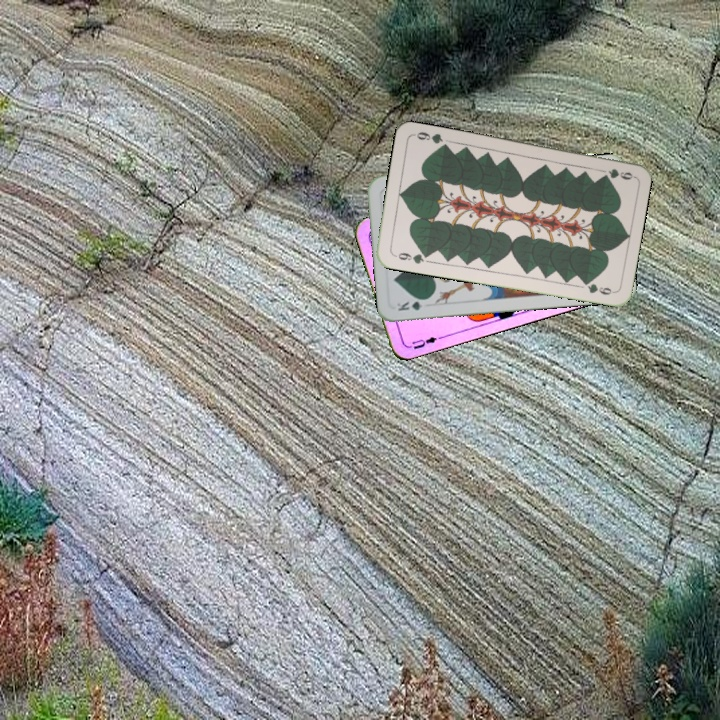EU: (408, 332, 444, 352)
G9: (390, 249, 431, 266), (604, 165, 635, 182)
GK: (393, 295, 432, 313)
